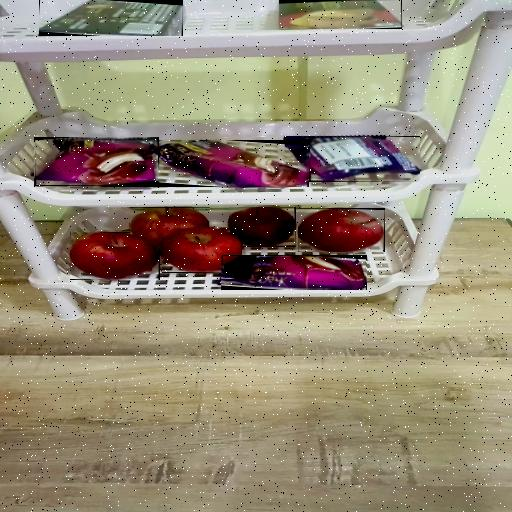Apple: (70, 232, 159, 280), (298, 208, 385, 252), (162, 227, 241, 272), (130, 207, 208, 248), (229, 207, 296, 247)
Choco Fills: (39, 0, 183, 36), (279, 0, 401, 29)
Choco Pie: (154, 140, 308, 187), (285, 136, 420, 181), (35, 138, 157, 186), (222, 256, 365, 289)
